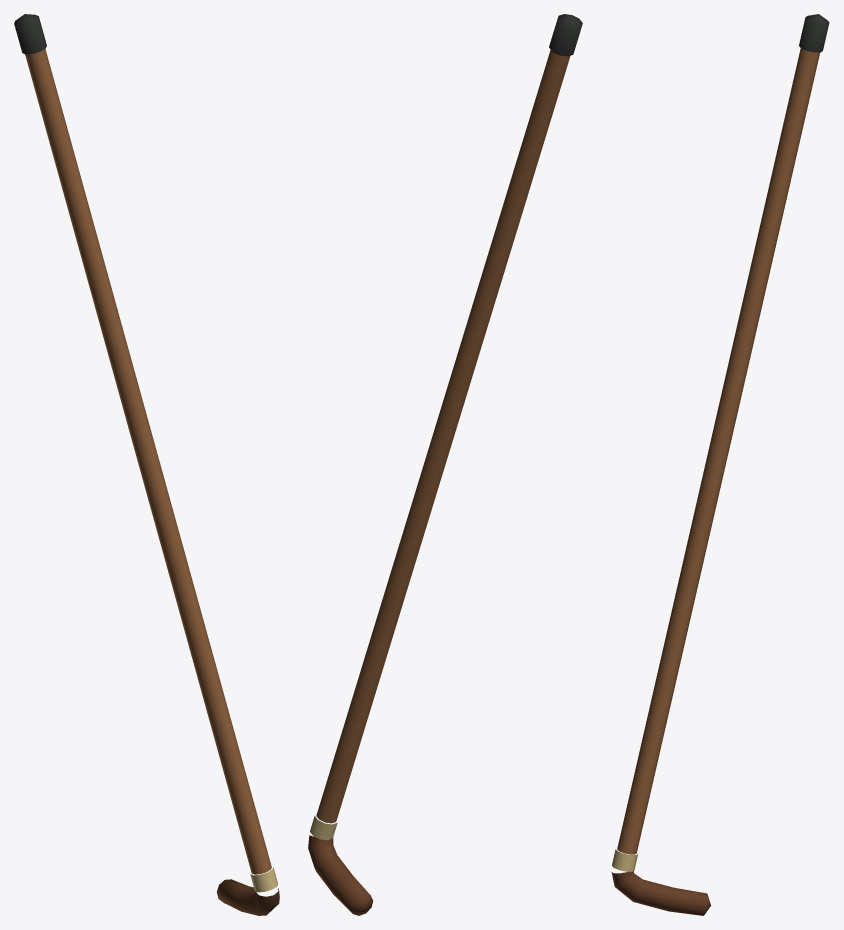
Rendered from old-cane-base-female.glb.
3 views of the same model, side by side, from view 1: azimuth 30°, elevation 25°; view 2: azimuth 210°, elevation 25°; view 3: azimuth 270°, elevation 25° (orthographic). The views are drawn at different scales.
Visible parts, largest first — view 1: Acc_Male_Hand_Cane; view 2: Acc_Male_Hand_Cane; view 3: Acc_Male_Hand_Cane.
Part boxes in pixels (box(x1,y1,x2,y2)): Acc_Male_Hand_Cane: box(14, 14, 279, 915); Acc_Male_Hand_Cane: box(308, 14, 582, 915); Acc_Male_Hand_Cane: box(611, 14, 829, 915).
Bounding box in the file's own units: 0.1684 × 0.8629 × 0.2042.
